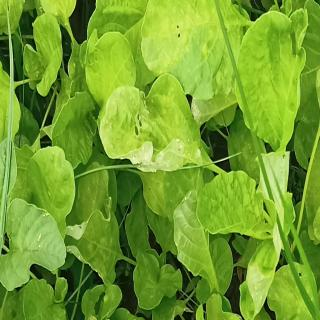karat_putih: (168, 0, 216, 65), (137, 144, 185, 175), (0, 0, 16, 16)
virus_keriting: (280, 5, 311, 69), (130, 82, 160, 127)
